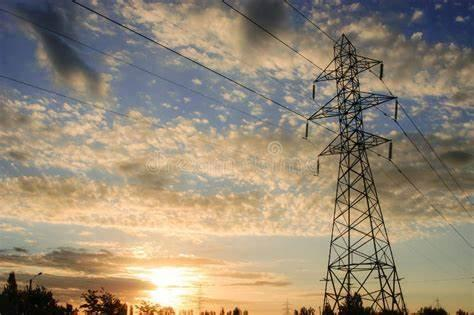power_tower: (297, 31, 409, 315)
